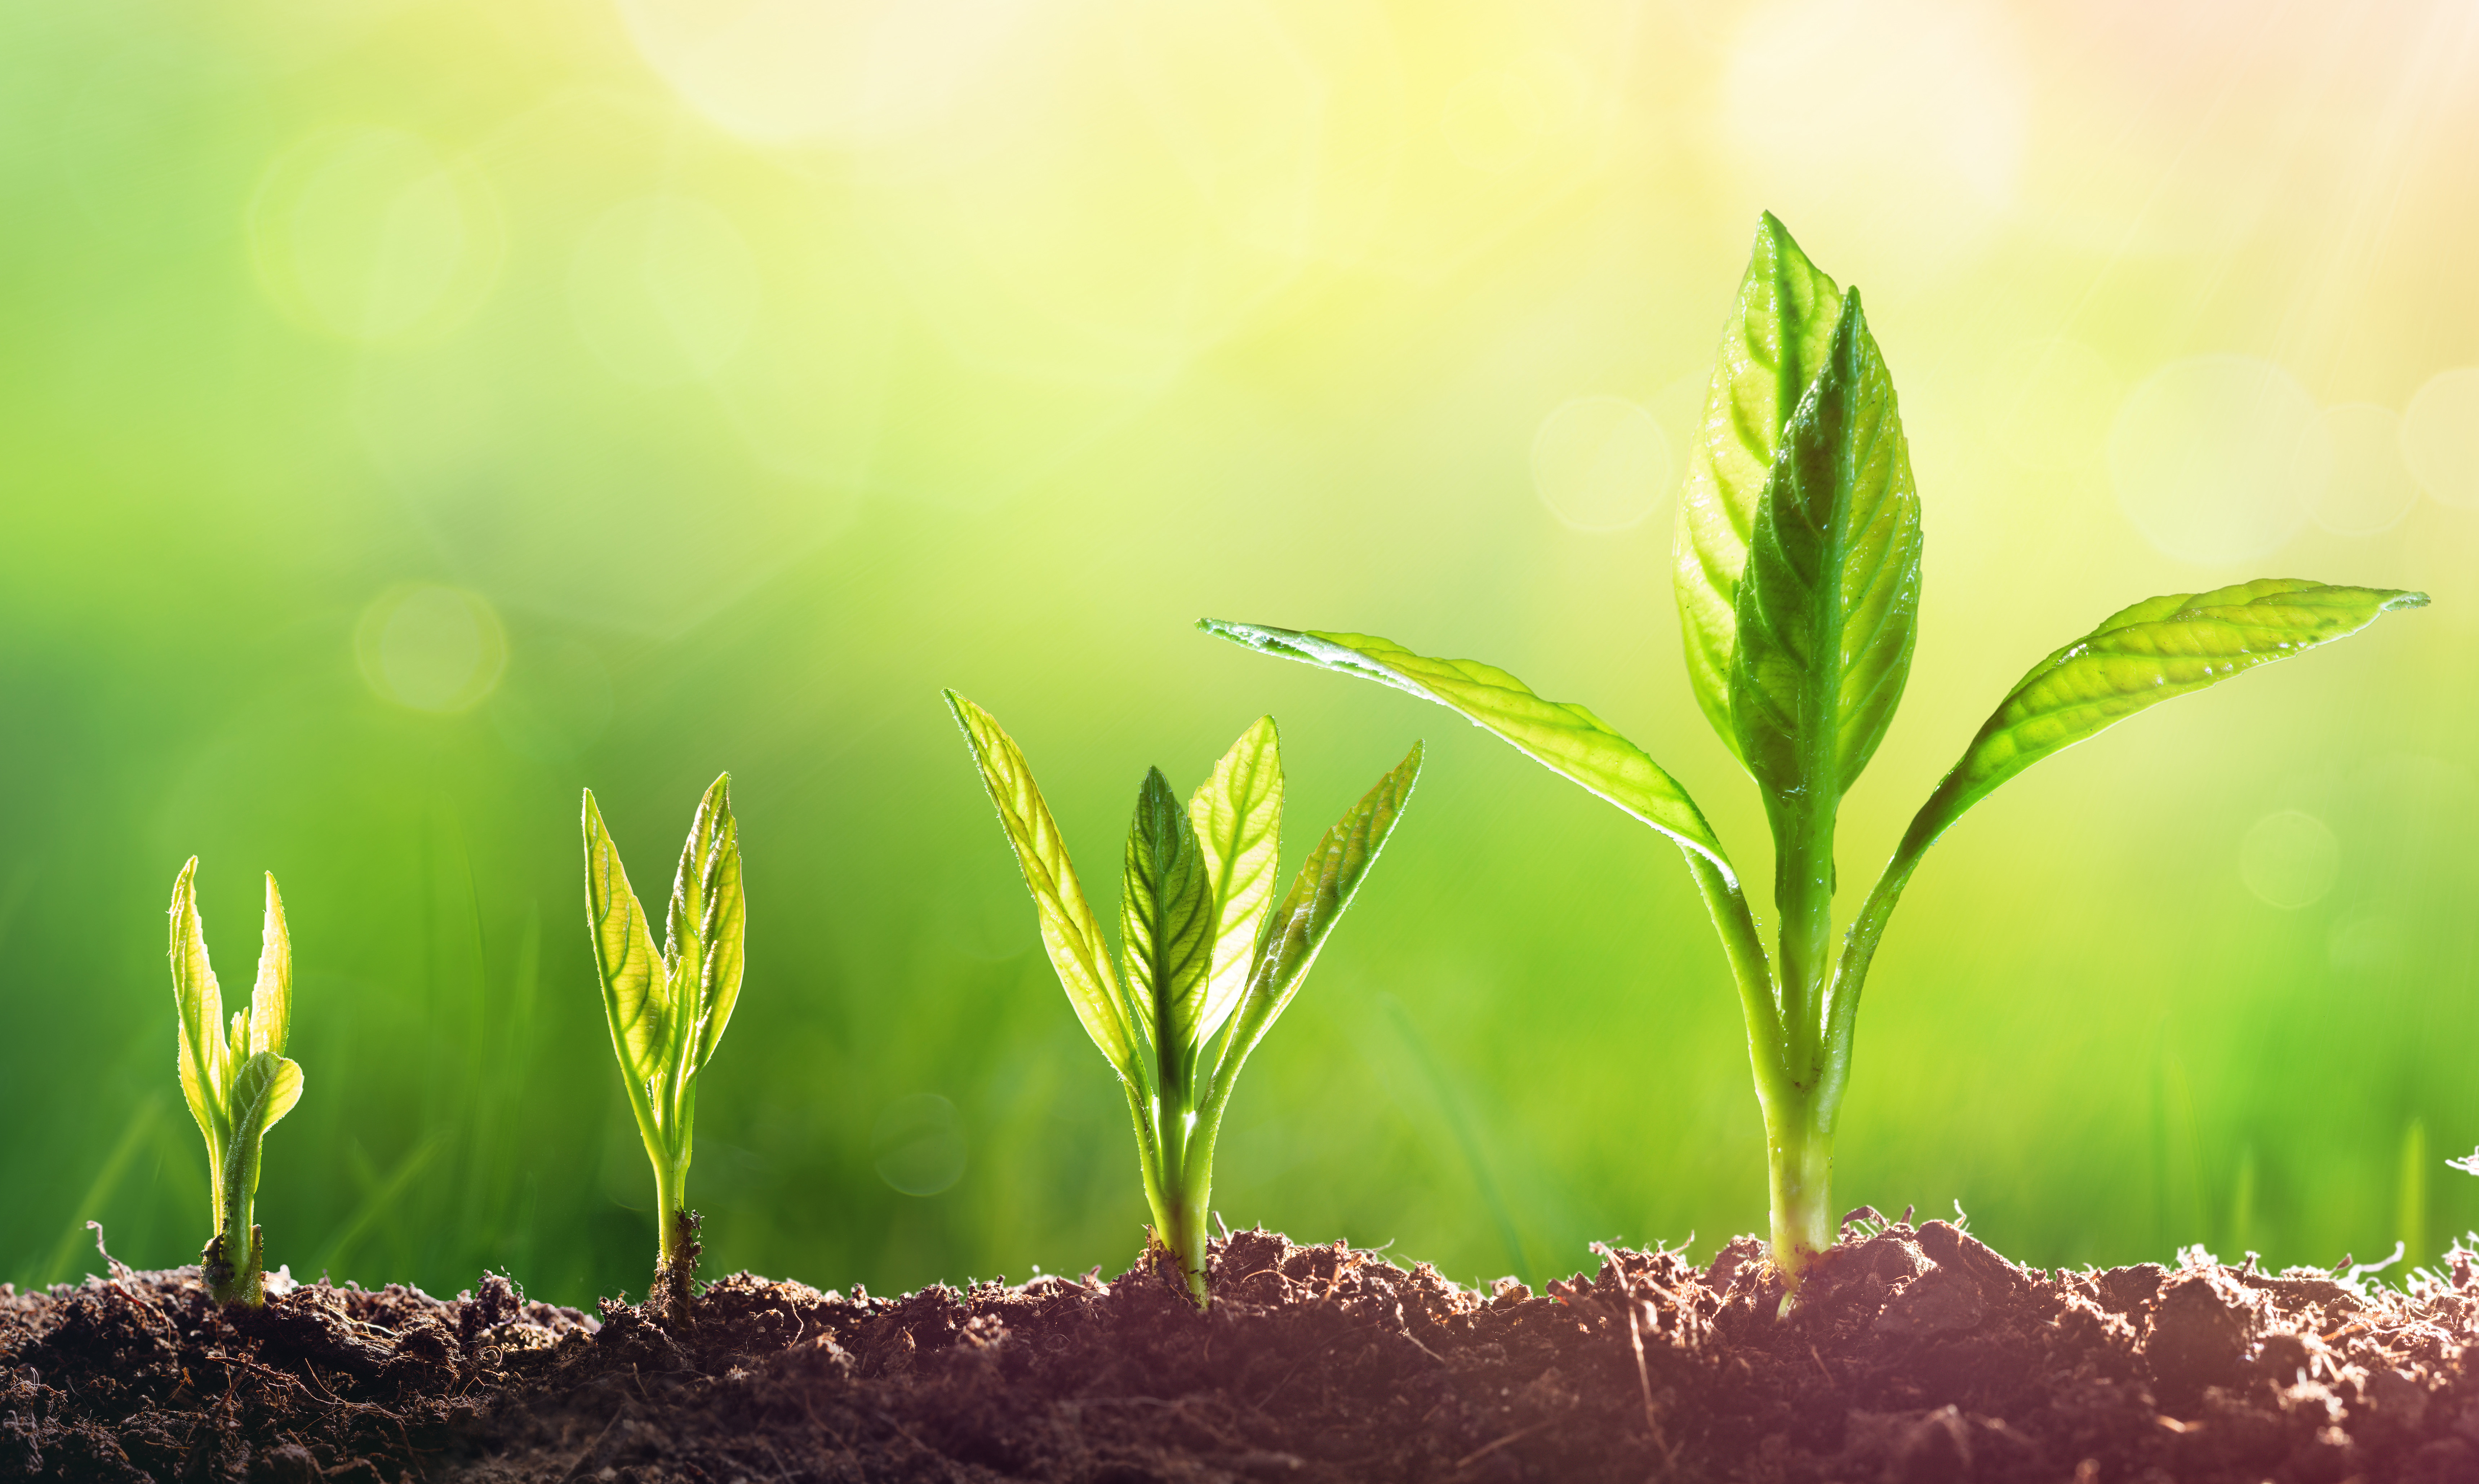plant: (1469, 228, 2246, 1323), (941, 663, 1460, 1295), (554, 753, 789, 1344), (131, 850, 344, 1318)
